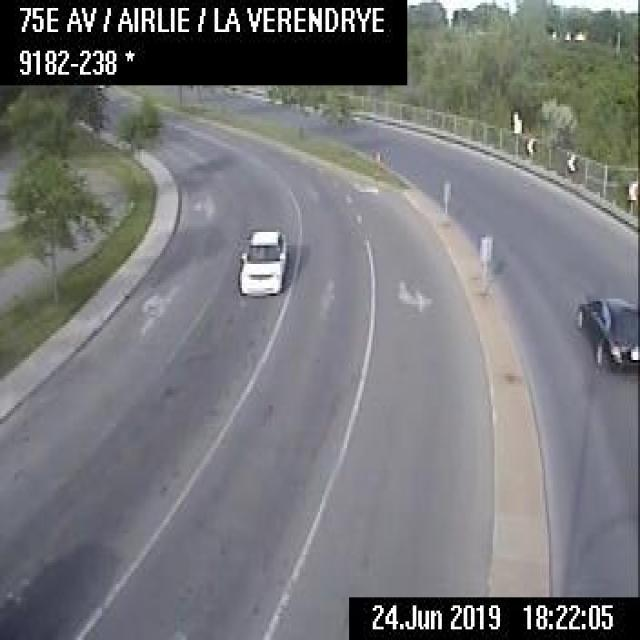vehicle: (572, 291, 638, 373), (234, 224, 286, 296)
